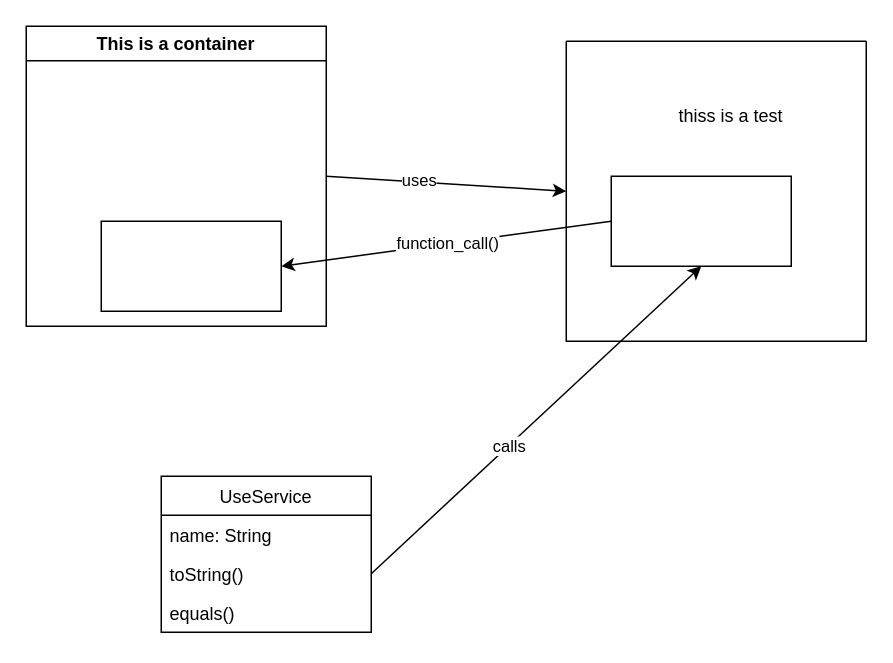
The diagram is 893 pixels wide and 663 high, and some of its shapes have lost their labels. The centre of each missing label's shape, as x and y in pixels:
"class A" belongs at pixel 190 265.
"class B" belongs at pixel 700 220.
